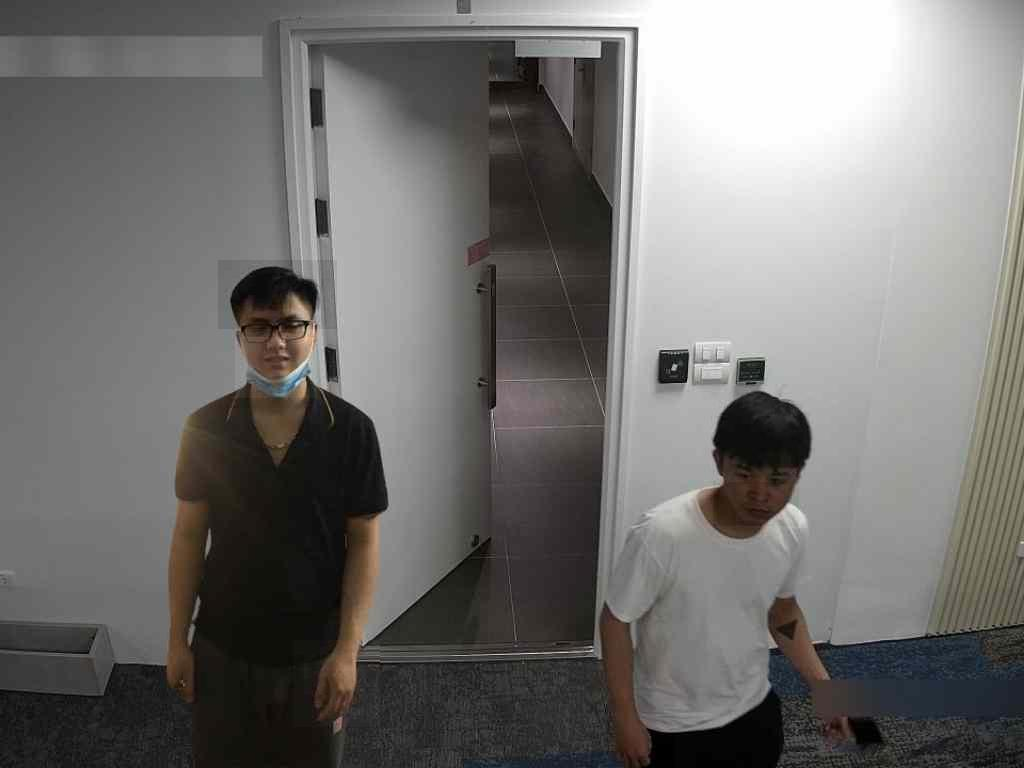no_apron: (294, 641, 380, 728), (588, 698, 675, 768), (166, 628, 208, 710)
no_gloves: (700, 386, 840, 476), (218, 260, 337, 330)
no_hairnet: (235, 337, 317, 398), (713, 482, 799, 526)
